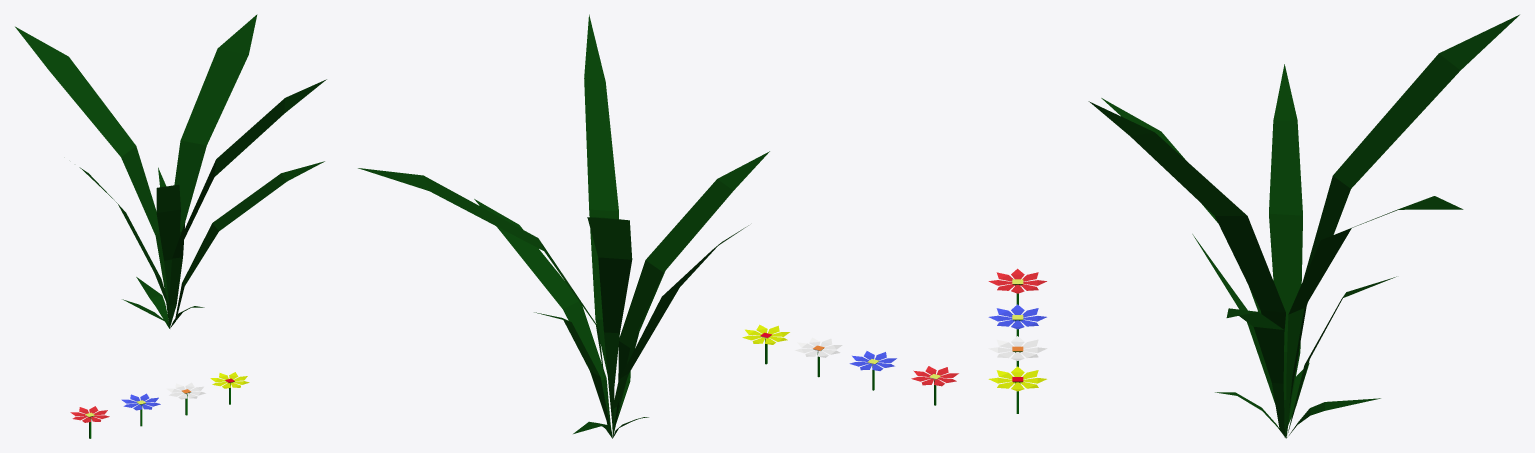
File: plants.fbx
The picture shows the model from 3 angles, left to right: view 1: azimuth 30°, elevation 25°; view 2: azimuth 150°, elevation 25°; view 3: azimuth 270°, elevation 25°; orthographic projection. The views are drawn at different scales.
Visible parts, largest first — view 1: Plant01, Flower_blue, Flower_white, Flower_red, Flower_yellow; view 2: Plant01, Flower_white, Flower_yellow, Flower_red, Flower_blue; view 3: Plant01, Flower_yellow, Flower_red, Flower_blue, Flower_white.
Part boxes in pixels (left/top/right/bottom): Plant01: left=15, top=14, right=326, bottom=328; Flower_blue: left=121, top=393, right=160, bottom=426; Flower_white: left=166, top=382, right=205, bottom=415; Flower_red: left=70, top=406, right=109, bottom=438; Flower_yellow: left=210, top=372, right=249, bottom=404; Plant01: left=358, top=14, right=769, bottom=438; Flower_white: left=795, top=337, right=842, bottom=377; Flower_yellow: left=742, top=324, right=789, bottom=364; Flower_red: left=911, top=366, right=958, bottom=405; Flower_blue: left=849, top=351, right=896, bottom=390; Plant01: left=1088, top=14, right=1519, bottom=438; Flower_yellow: left=988, top=366, right=1046, bottom=413; Flower_red: left=988, top=268, right=1046, bottom=304; Flower_blue: left=988, top=304, right=1046, bottom=336; Flower_white: left=988, top=336, right=1047, bottom=366.
Size of the model in its own units: 2.01 by 1.57 by 1.9.
